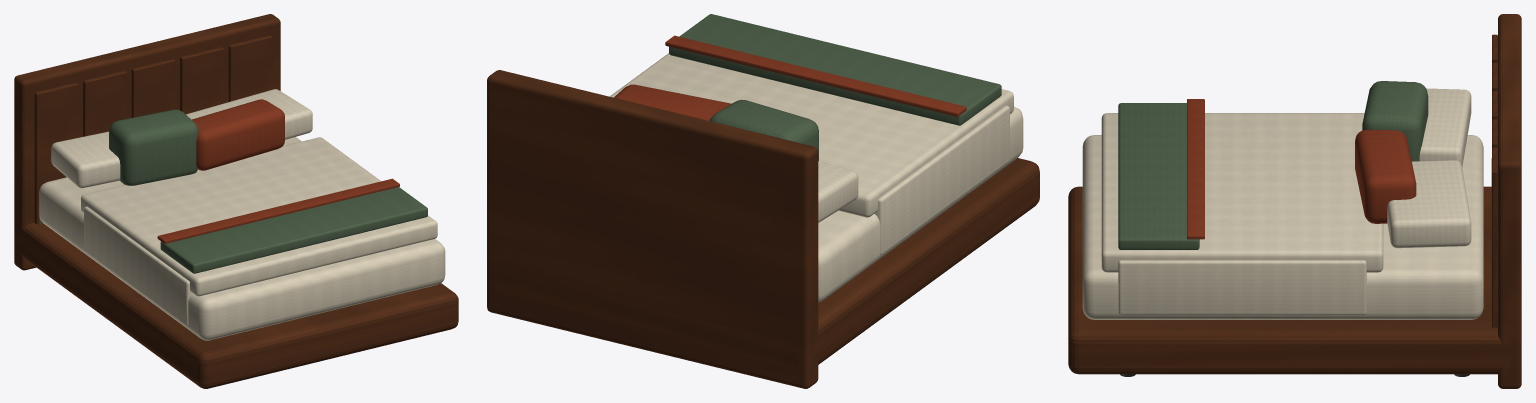
Rendered from bedroom-bed.glb.
The picture shows the model from 3 angles, left to right: view 1: azimuth 30°, elevation 25°; view 2: azimuth 150°, elevation 25°; view 3: azimuth 270°, elevation 25°; orthographic projection. The views are drawn at different scales.
Visible parts, largest first — view 1: CANONICAL walnut platform, ACCENT relaxed ivory duvet, ACCENT pocket mattress, CANONICAL walnut headboard, ACCENT sage foot throw, ACCENT sage throw pillow, ACCENT duvet side drape, ACCENT rust lumbar pillow, ACCENT walnut headboard panel 1, ACCENT ivory sleeping pillow 1, ACCENT walnut headboard panel 4, ACCENT walnut headboard panel 5 (+4 smaller); view 2: CANONICAL walnut headboard, CANONICAL walnut platform, ACCENT relaxed ivory duvet, ACCENT sage foot throw, ACCENT duvet side drape, ACCENT pocket mattress, ACCENT rust throw edge, ACCENT sage throw pillow, ACCENT rust lumbar pillow, ACCENT ivory sleeping pillow 1; view 3: ACCENT relaxed ivory duvet, CANONICAL walnut platform, ACCENT pocket mattress, ACCENT duvet side drape.001, ACCENT sage foot throw, CANONICAL walnut headboard, ACCENT ivory sleeping pillow 2, ACCENT rust lumbar pillow, ACCENT sage throw pillow, ACCENT ivory sleeping pillow 1, ACCENT rust throw edge, ACCENT walnut headboard panel 5.
Boxes of the visible parts, x1=… form: CANONICAL walnut platform: x1=17, y1=222, x2=458, y2=388; ACCENT relaxed ivory duvet: x1=81, y1=137, x2=437, y2=296; ACCENT pocket mattress: x1=39, y1=137, x2=445, y2=340; CANONICAL walnut headboard: x1=14, y1=14, x2=280, y2=270; ACCENT sage foot throw: x1=160, y1=187, x2=427, y2=273; ACCENT sage throw pillow: x1=109, y1=109, x2=198, y2=185; ACCENT duvet side drape: x1=84, y1=206, x2=192, y2=326; ACCENT rust lumbar pillow: x1=192, y1=99, x2=284, y2=170; ACCENT walnut headboard panel 1: x1=34, y1=82, x2=78, y2=224; ACCENT ivory sleeping pillow 1: x1=51, y1=131, x2=120, y2=188; ACCENT walnut headboard panel 4: x1=180, y1=47, x2=223, y2=114; ACCENT walnut headboard panel 5: x1=228, y1=35, x2=272, y2=101; CANONICAL walnut headboard: x1=487, y1=70, x2=818, y2=388; CANONICAL walnut platform: x1=494, y1=158, x2=1039, y2=365; ACCENT relaxed ivory duvet: x1=610, y1=53, x2=1013, y2=217; ACCENT sage foot throw: x1=669, y1=14, x2=1001, y2=125; ACCENT duvet side drape: x1=874, y1=105, x2=1009, y2=254; ACCENT pocket mattress: x1=818, y1=106, x2=1023, y2=302; ACCENT rust throw edge: x1=665, y1=35, x2=966, y2=116; ACCENT sage throw pillow: x1=710, y1=99, x2=818, y2=160; ACCENT rust lumbar pillow: x1=614, y1=84, x2=731, y2=120; ACCENT ivory sleeping pillow 1: x1=818, y1=161, x2=858, y2=222; ACCENT relaxed ivory duvet: x1=1101, y1=113, x2=1383, y2=272; CANONICAL walnut platform: x1=1068, y1=186, x2=1511, y2=374; ACCENT pocket mattress: x1=1082, y1=135, x2=1483, y2=319; ACCENT duvet side drape.001: x1=1118, y1=260, x2=1366, y2=314; ACCENT sage foot throw: x1=1118, y1=103, x2=1199, y2=249; CANONICAL walnut headboard: x1=1498, y1=14, x2=1521, y2=388; ACCENT ivory sleeping pillow 2: x1=1387, y1=160, x2=1471, y2=248; ACCENT rust lumbar pillow: x1=1355, y1=129, x2=1416, y2=223; ACCENT sage throw pillow: x1=1362, y1=81, x2=1428, y2=161; ACCENT ivory sleeping pillow 1: x1=1419, y1=88, x2=1471, y2=166; ACCENT rust throw edge: x1=1187, y1=99, x2=1204, y2=239; ACCENT walnut headboard panel 5: x1=1492, y1=147, x2=1497, y2=327.
Bounding box in the file's own units: 1.5 × 1.05 × 1.9.
5 materials, 4 textured.
